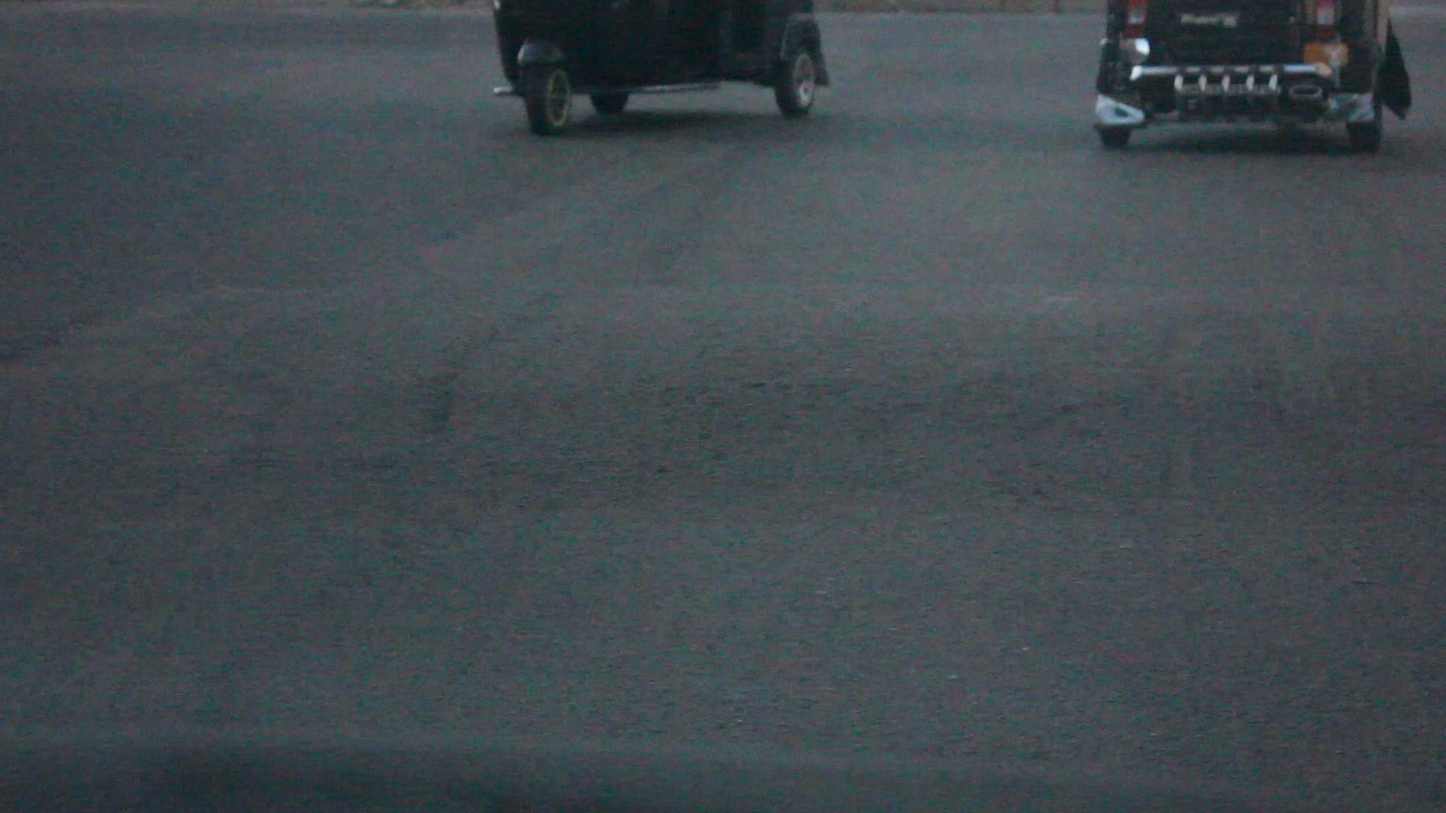Bump: (0, 531, 1446, 762)
